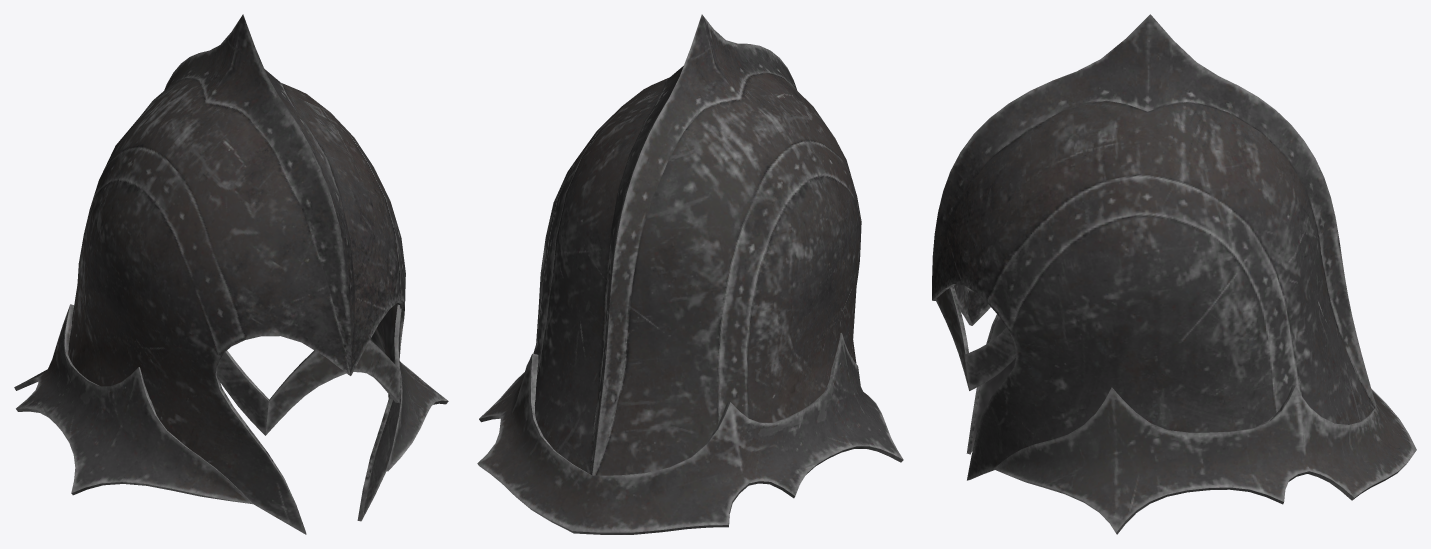
The model's file is sk_uruk_mordor_helmet_heavy_b2.fbx.
3 renders of one model, left to right at view 1: azimuth 30°, elevation 25°; view 2: azimuth 150°, elevation 25°; view 3: azimuth 270°, elevation 25°, orthographic. The views are drawn at different scales.
Visible parts, largest first — view 1: sk_uruk_mordor_helmet_heavy_b2; view 2: sk_uruk_mordor_helmet_heavy_b2; view 3: sk_uruk_mordor_helmet_heavy_b2.
Boxes of the visible parts, x1=… form: sk_uruk_mordor_helmet_heavy_b2: x1=14, y1=14, x2=448, y2=534; sk_uruk_mordor_helmet_heavy_b2: x1=477, y1=14, x2=903, y2=534; sk_uruk_mordor_helmet_heavy_b2: x1=932, y1=14, x2=1416, y2=534.
Size of the model in its own units: 0.2975 by 0.3271 by 0.3373.
Materials: 1 (1 with a texture image).
